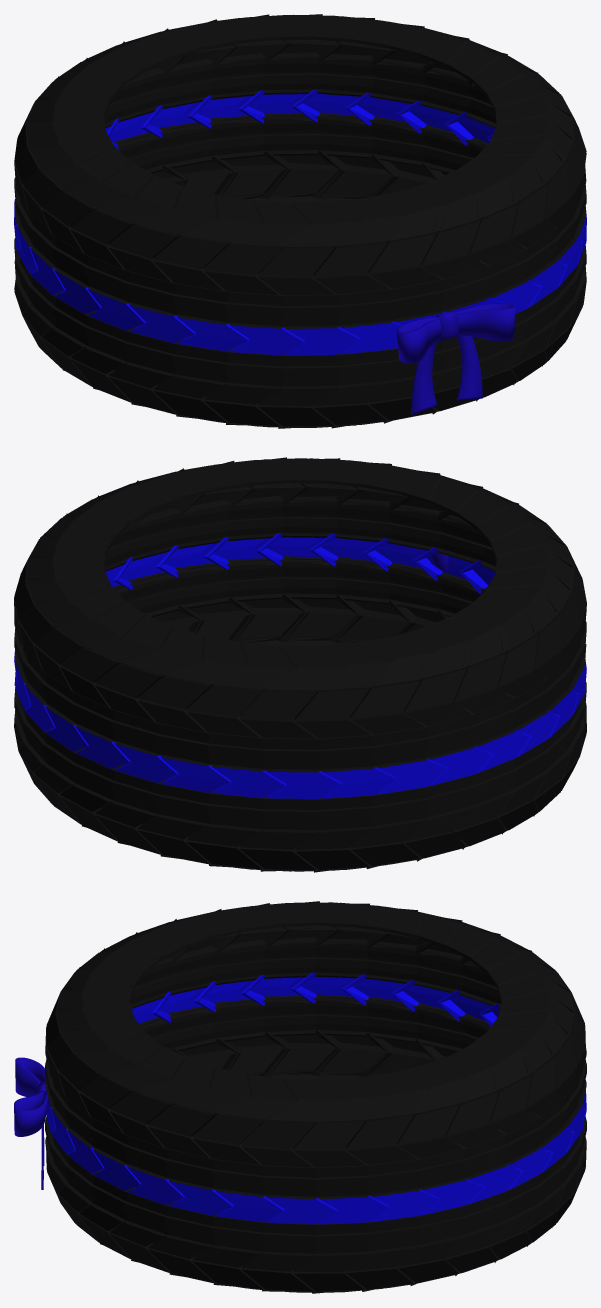
File: BlueCarBox.fbx
3 views of the same model, one above another, from view 1: azimuth 30°, elevation 25°; view 2: azimuth 150°, elevation 25°; view 3: azimuth 270°, elevation 25° (orthographic). The views are drawn at different scales.
Parts seen in each view (by area): view 1: Tire.003, Bow.001; view 2: Tire.003; view 3: Tire.003, Bow.001.
Part boxes in pixels (left/top/right/bottom): Tire.003: left=14, top=14, right=586, bottom=428; Bow.001: left=396, top=303, right=515, bottom=414; Tire.003: left=14, top=457, right=586, bottom=872; Tire.003: left=45, top=901, right=586, bottom=1293; Bow.001: left=14, top=1057, right=47, bottom=1189.
Size of the model in its own units: 200 by 78.46 by 211.
